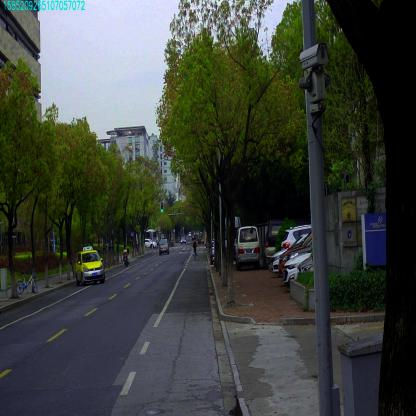traffic-light: (160, 202, 163, 212)
